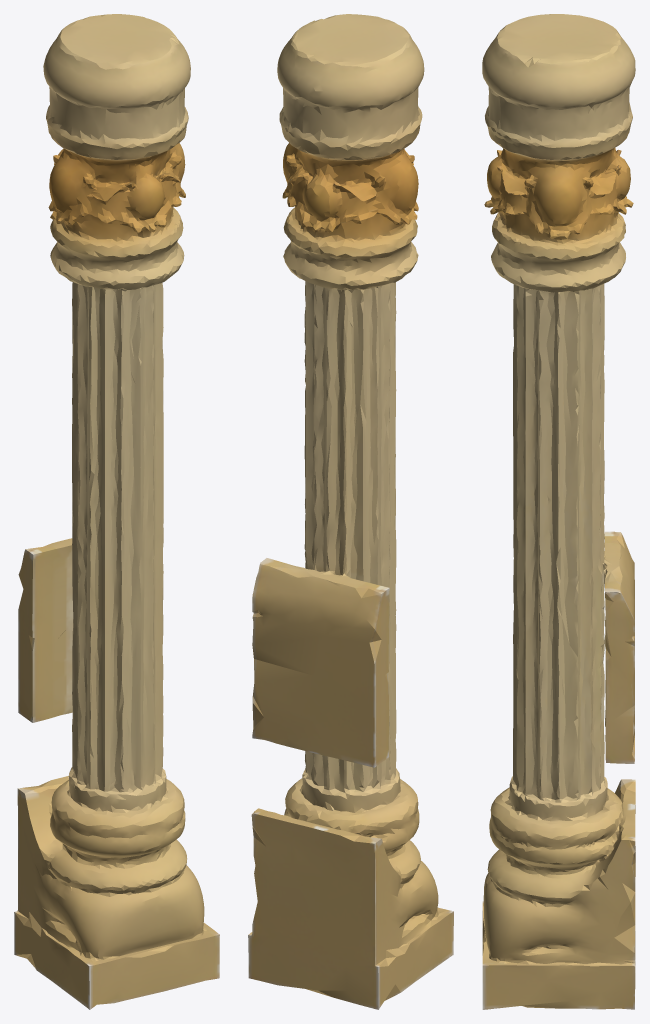
File: greece_column.glb
3 views of the same model, side by side, from view 1: azimuth 30°, elevation 25°; view 2: azimuth 150°, elevation 25°; view 3: azimuth 270°, elevation 25° (orthographic).
Visible parts, largest first — view 1: greece_column; view 2: greece_column; view 3: greece_column.
Boxes of the visible parts, x1,y1,x2,y2 form: greece_column: [14, 14, 219, 1009]; greece_column: [248, 14, 453, 1009]; greece_column: [482, 14, 635, 1009].
Size of the model in its own units: 0.2801 by 1.9 by 0.2814.
1 material, 1 textured.
